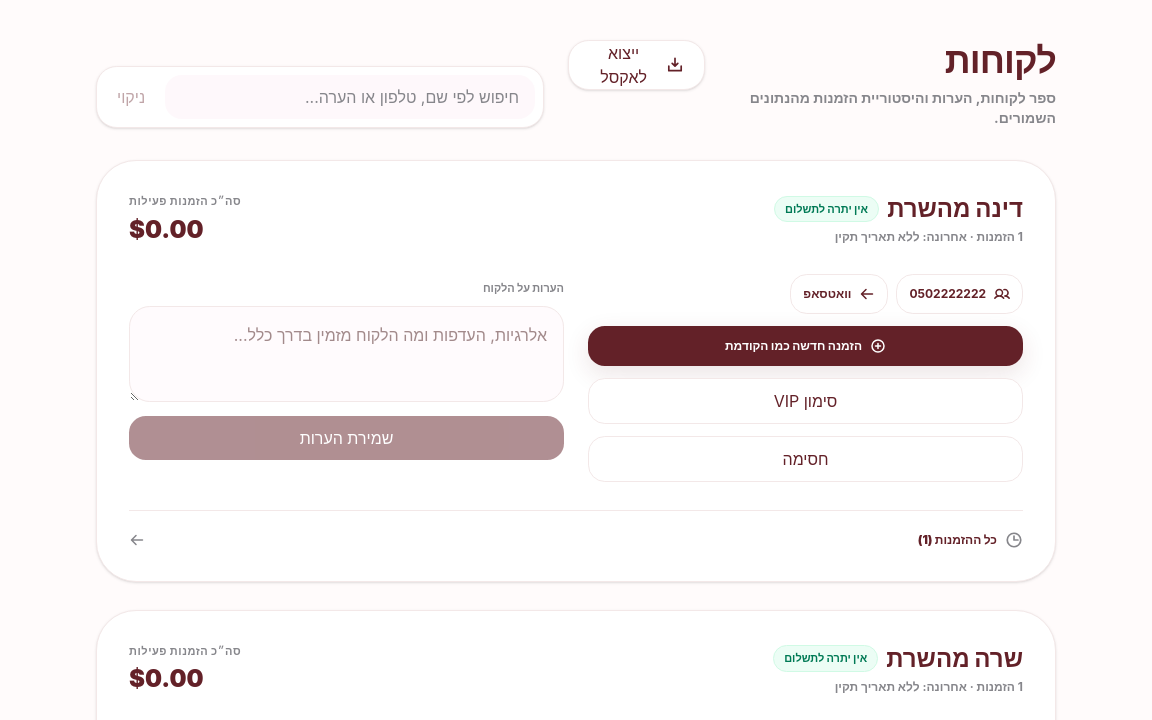
Scenario: CustomersScreen › searches real names, phones, and customer notes and restores focus on clear
Type "גלוטן" into the search field named "חיפוש לקוחות" at coordinates (350, 97), box [165, 75, 535, 119]
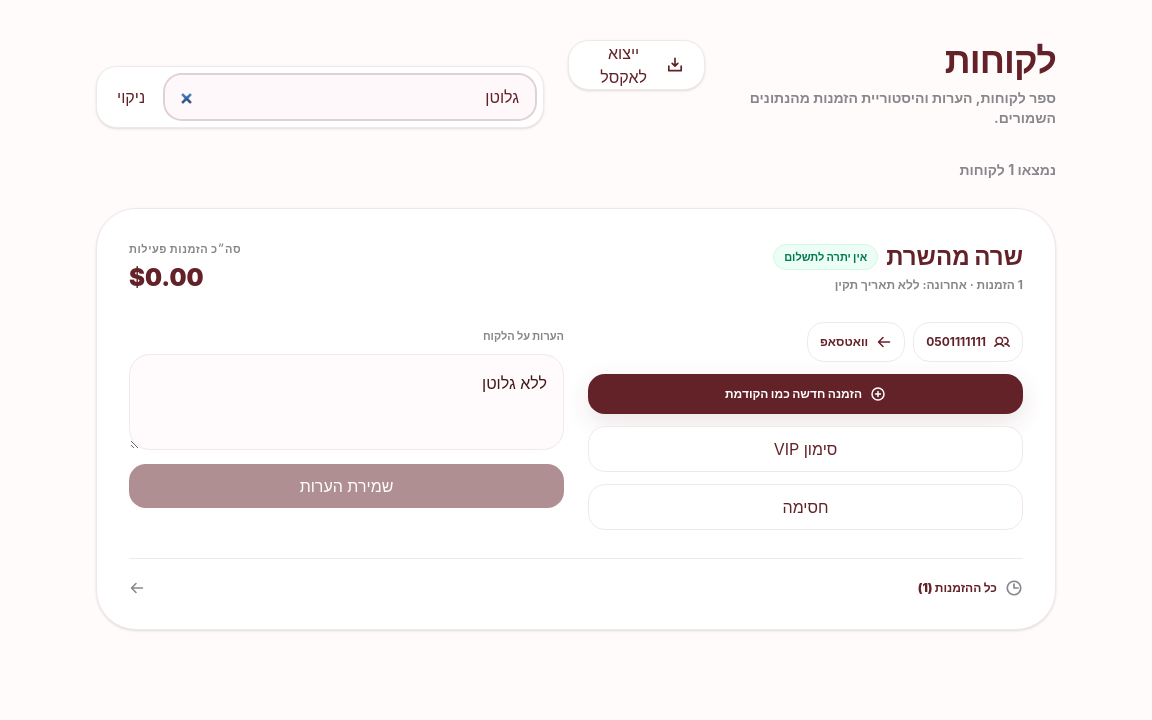
Expected: the heading "שרה מהשרת" is shown, [886, 241, 1023, 273]
Expected: the text "נמצאו 1 לקוחות" is shown, [960, 161, 1056, 178]
Expected: the heading "דינה מהשרת" is gone
Click the button "ניקוי" at coordinates (131, 97), box [105, 77, 157, 117]
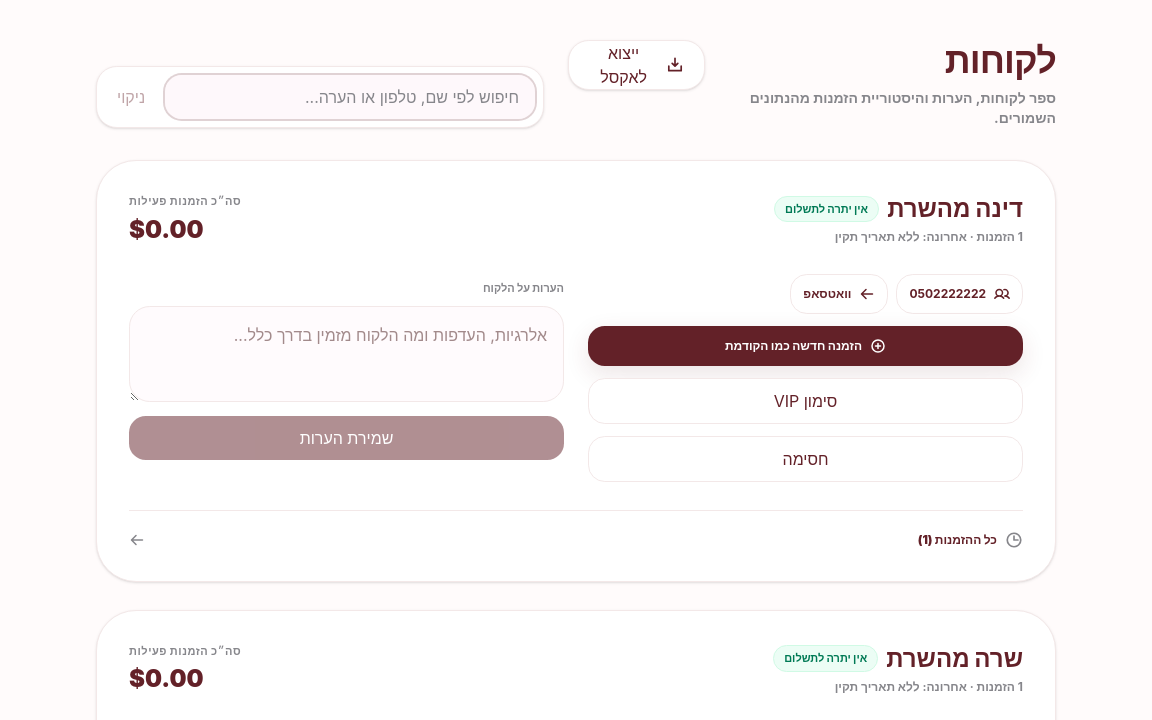
Expected: the search field named "חיפוש לקוחות" is empty, [165, 75, 535, 119]
Expected: the heading "דינה מהשרת" is shown, [887, 193, 1023, 225]
